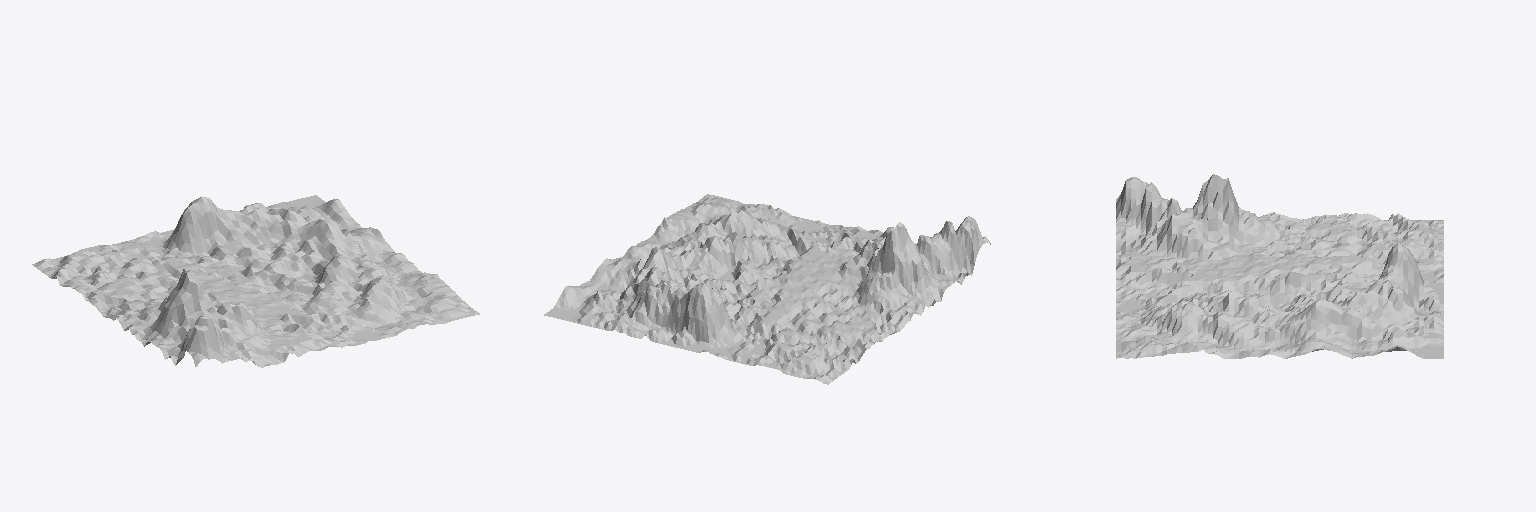
File: GameWorld.obj
The picture shows the model from 3 angles: view 1: azimuth 30°, elevation 25°; view 2: azimuth 150°, elevation 25°; view 3: azimuth 270°, elevation 25°; orthographic projection.
Size of the model in its own units: 10 by 2.27 by 10.